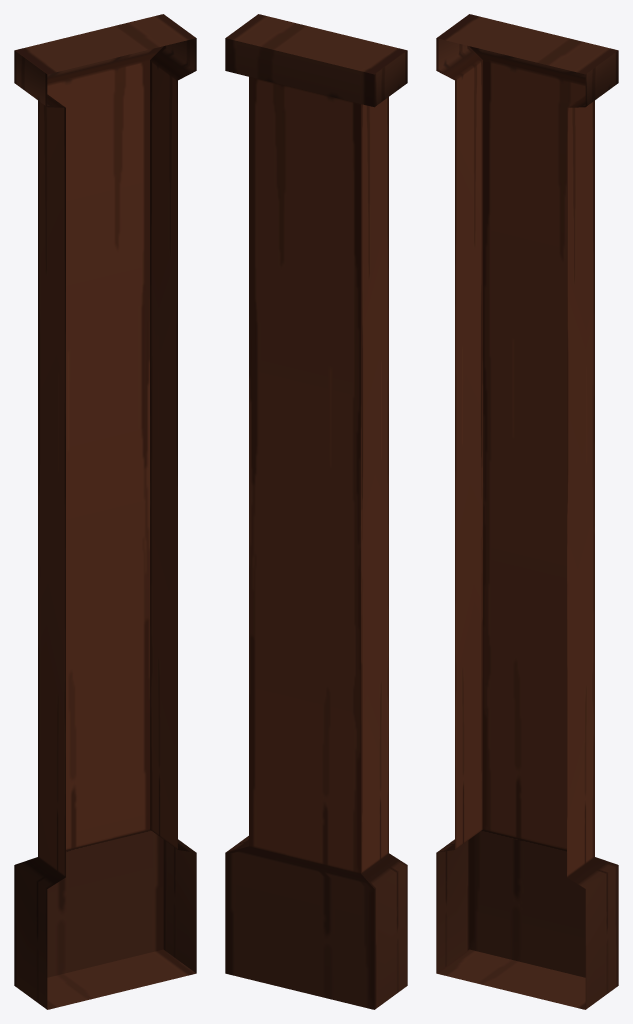
Rendered from Asset_Column.fbx.
The picture shows the model from 3 angles, left to right: view 1: azimuth 30°, elevation 25°; view 2: azimuth 150°, elevation 25°; view 3: azimuth 330°, elevation 25°; orthographic projection.
Visible parts, largest first — view 1: Column; view 2: Column; view 3: Column.
Boxes of the visible parts, left/top/right/bottom form: Column: left=14, top=14, right=196, bottom=1009; Column: left=225, top=14, right=407, bottom=1009; Column: left=436, top=14, right=618, bottom=1009.
Size of the model in its own units: 0.5317 by 3.19 by 0.2038.
